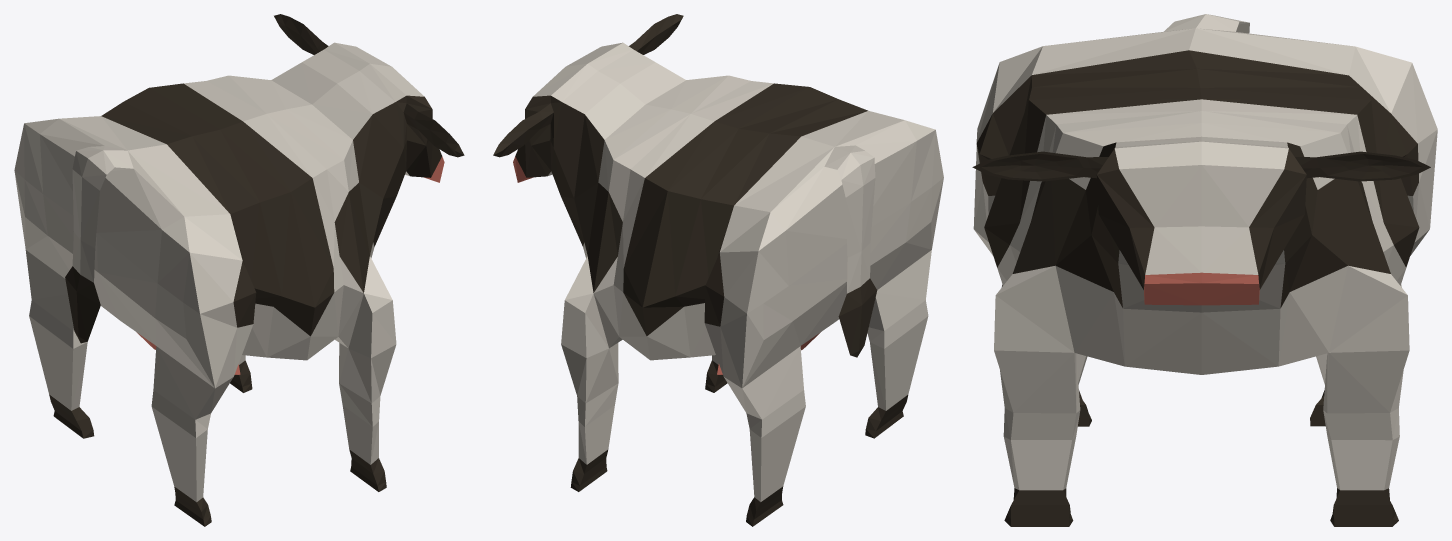
Rendered from holstein.glb.
The picture shows the model from 3 angles, left to right: view 1: azimuth 30°, elevation 25°; view 2: azimuth 150°, elevation 25°; view 3: azimuth 270°, elevation 25°; orthographic projection. The views are drawn at different scales.
Bounding box in the file's own units: 1 × 1 × 1.
